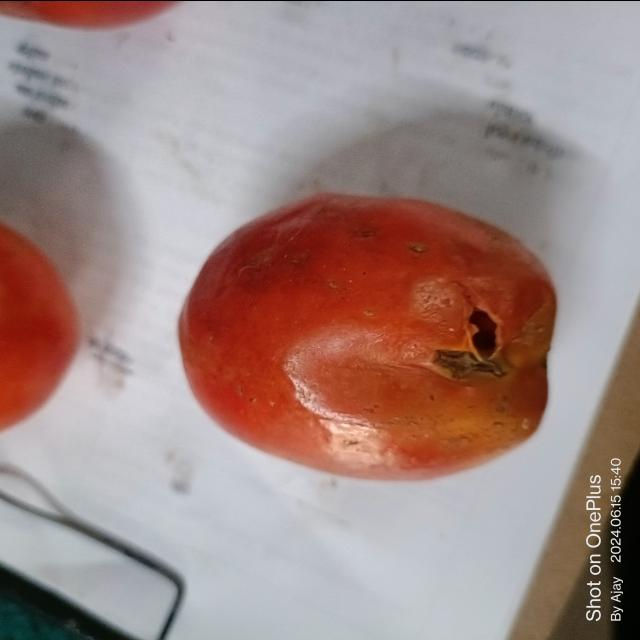Botrytis: (430, 310, 504, 380)
